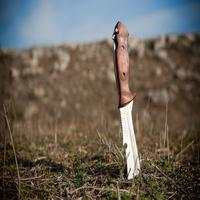knife: (101, 16, 147, 185)
